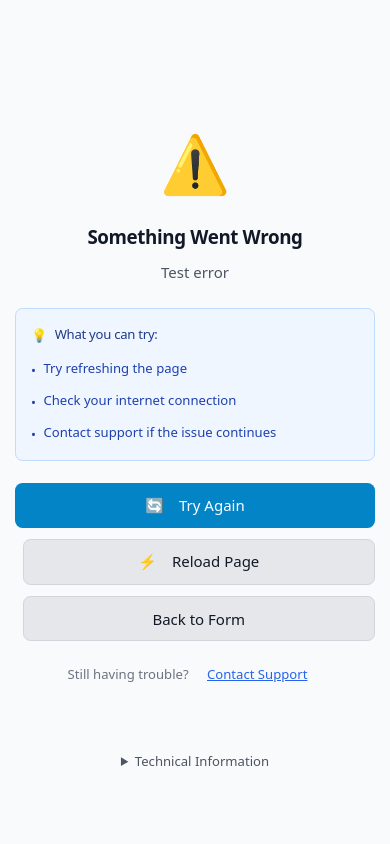
Test: EnhancedErrorBoundary › Secure Error Logging - Requirement 4.5 › should show stack trace only in development mode
# Open technical information
Click the heading "Technical Information" at (202,761), box [135,752,269,770]
(page scrolled)
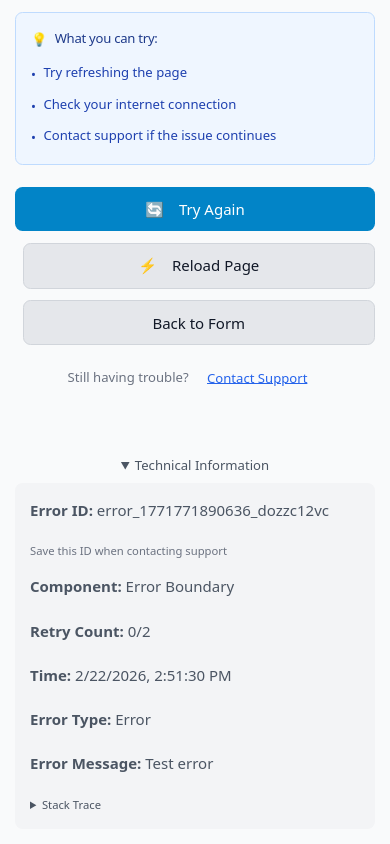
Expected: the heading "Stack Trace" is shown, [42,797,101,812]
